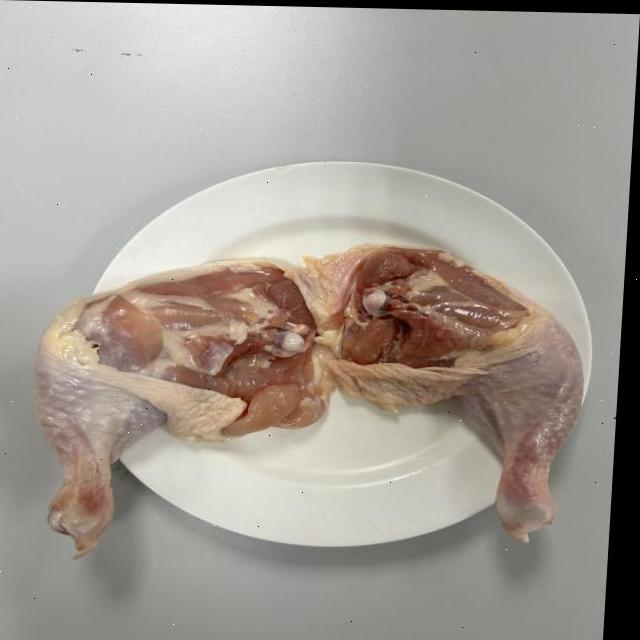quater: (33, 251, 341, 567), (320, 230, 592, 562)
